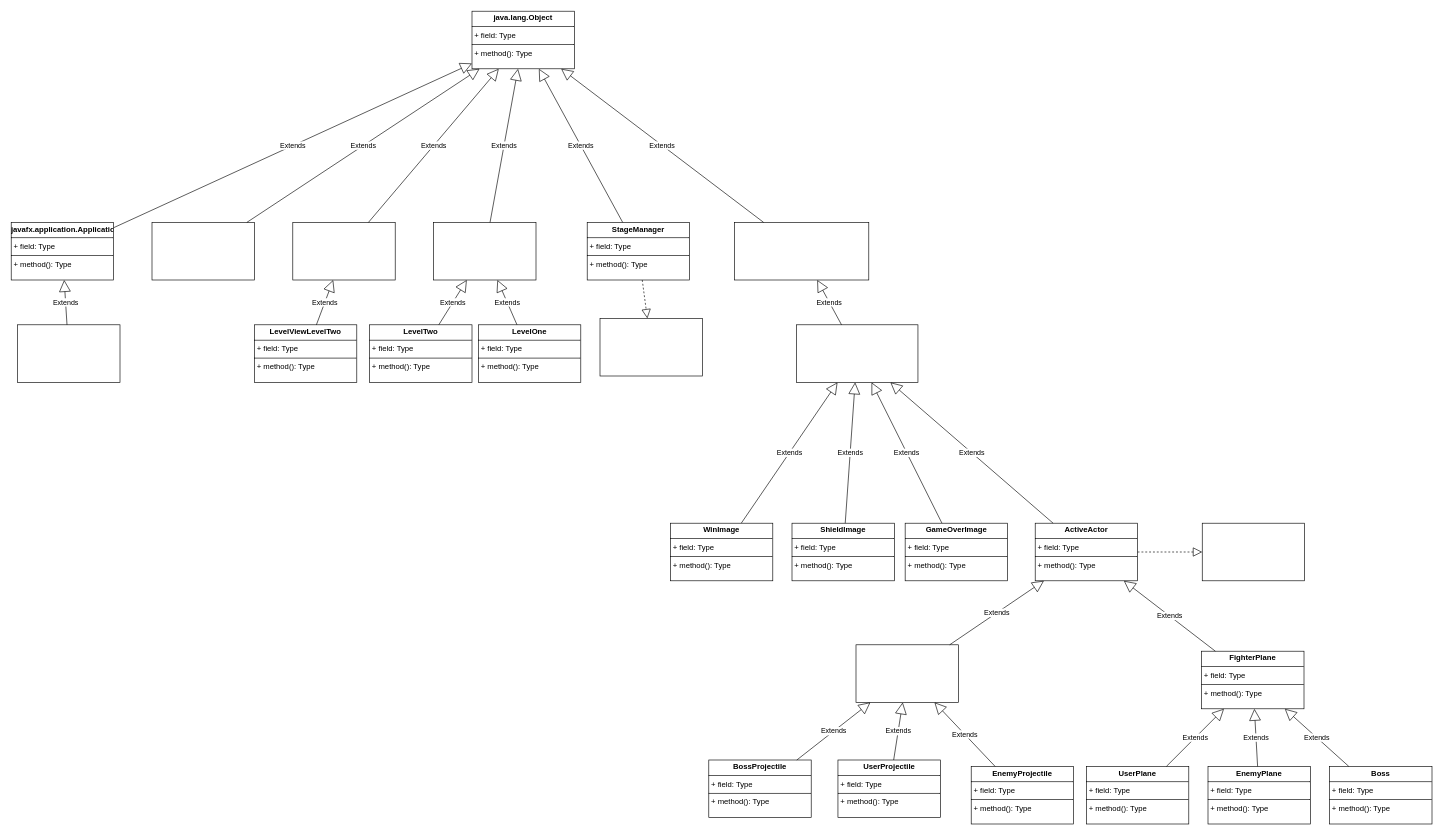
Image size: 1443x835. Some labels were removed from this diagram. Here are the shapes that lost their labels. From the top down, the centre of each, then its label:
the point at 202,251: HeartDisplay + field: Type + method(): Type
the point at 343,251: LevelView + field: Type + method(): Type
the point at 484,251: LevelParent + field: Type + method(): Type
the point at 801,251: javaFx.scene.Node + field: Type + method(): Type
the point at 68,353: Main + field: Type + method(): Type
the point at 650,347: java.beans.PropertyChangeListener + field: Type + method(): Type
the point at 857,353: javaFx.scene.image.ImageView + field: Type + method(): Type
the point at 1253,552: Destructible + field: Type + method(): Type
the point at 906,673: Projectile + field: Type + method(): Type
